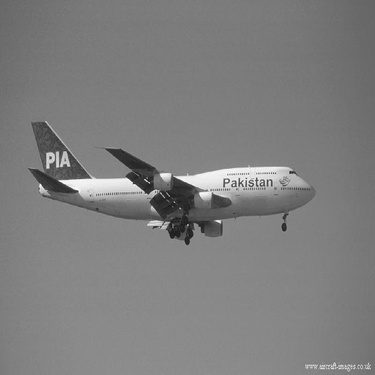airplane: (1, 105, 320, 252)
